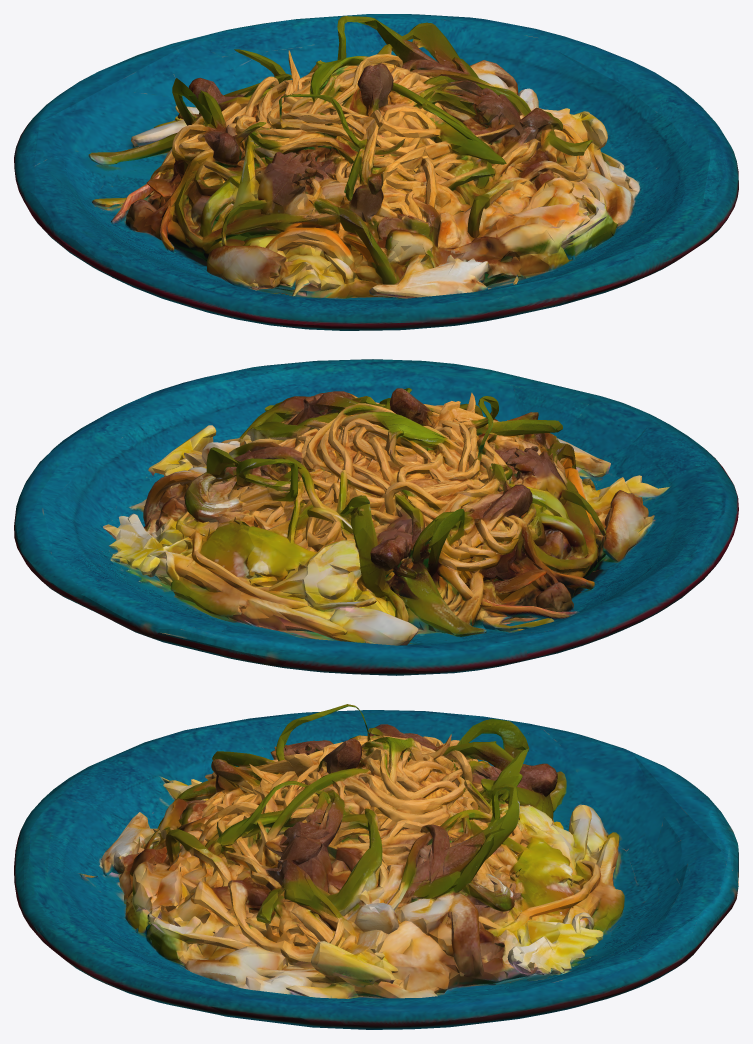
Rendered from yakisoba-boeuf.glb.
3 views of the same model, one above another, from view 1: azimuth 30°, elevation 25°; view 2: azimuth 150°, elevation 25°; view 3: azimuth 270°, elevation 25° (orthographic). The views are drawn at different scales.
Visible parts, largest first — view 1: Dimensions physiques Meiji; view 2: Dimensions physiques Meiji; view 3: Dimensions physiques Meiji.
Boxes of the visible parts, x1,y1,x2,y2 form: Dimensions physiques Meiji: [14, 14, 738, 330]; Dimensions physiques Meiji: [14, 359, 738, 675]; Dimensions physiques Meiji: [14, 704, 738, 1029].
Size of the model in its own units: 0.28 by 0.0734 by 0.2771.
Materials: 1 (1 with a texture image).
